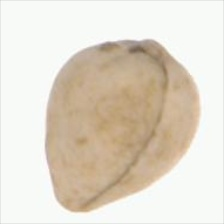L4: (46, 38, 199, 212)
